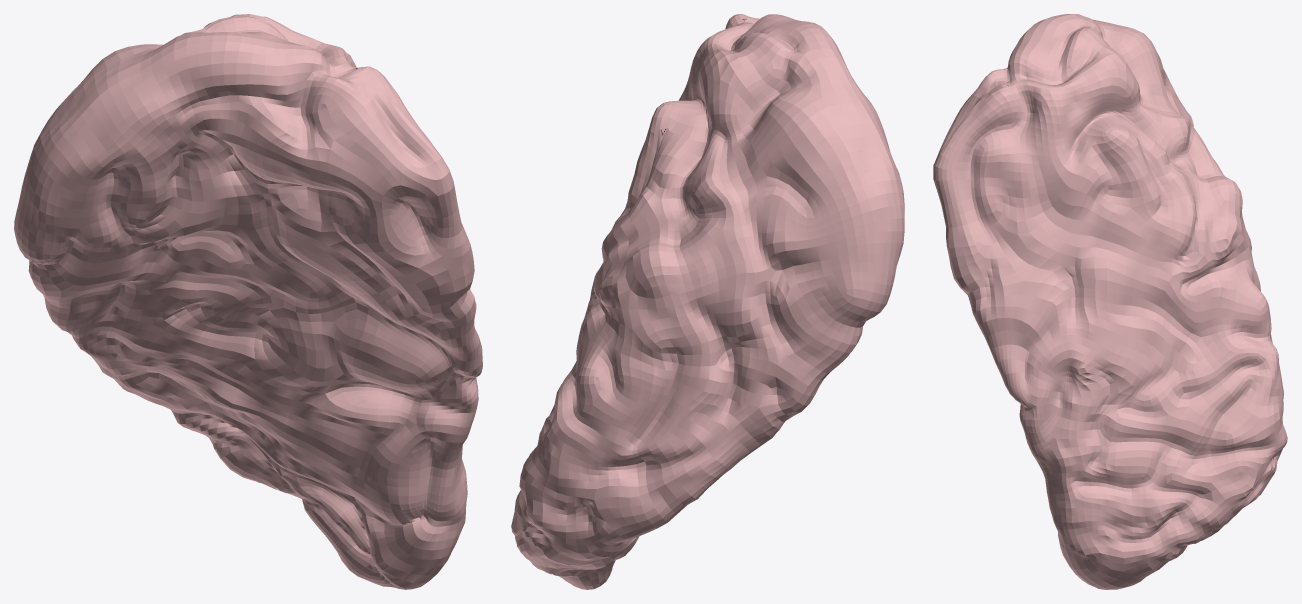
Rendered from 3d-vh-m-palatine-tonsil-l.fbx.
The picture shows the model from 3 angles, left to right: view 1: azimuth 30°, elevation 25°; view 2: azimuth 150°, elevation 25°; view 3: azimuth 270°, elevation 25°; orthographic projection. The views are drawn at different scales.
Parts seen in each view (by area): view 1: VH_M_palatine_tonsil_L; view 2: VH_M_palatine_tonsil_L; view 3: VH_M_palatine_tonsil_L.
Part boxes in pixels (x1,y1,x2,y2): VH_M_palatine_tonsil_L: [14, 14, 482, 589]; VH_M_palatine_tonsil_L: [511, 14, 904, 589]; VH_M_palatine_tonsil_L: [933, 14, 1287, 589].
Size of the model in its own units: 1.63 by 2.43 by 1.59.
